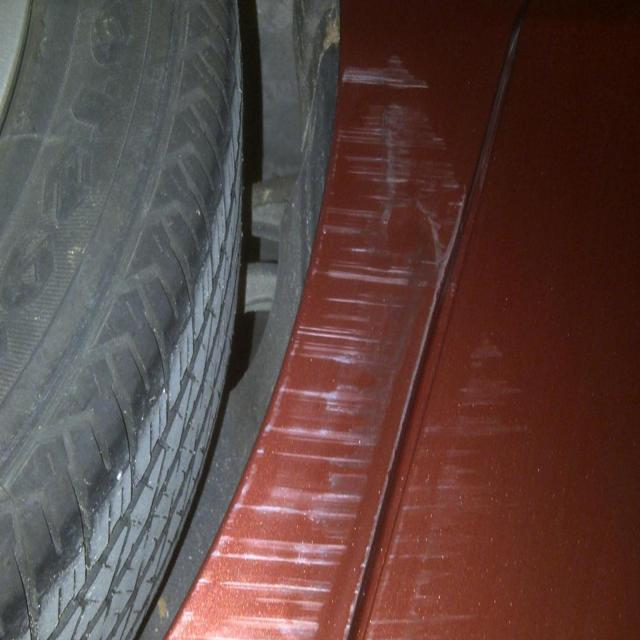scratch: (132, 39, 510, 640)
